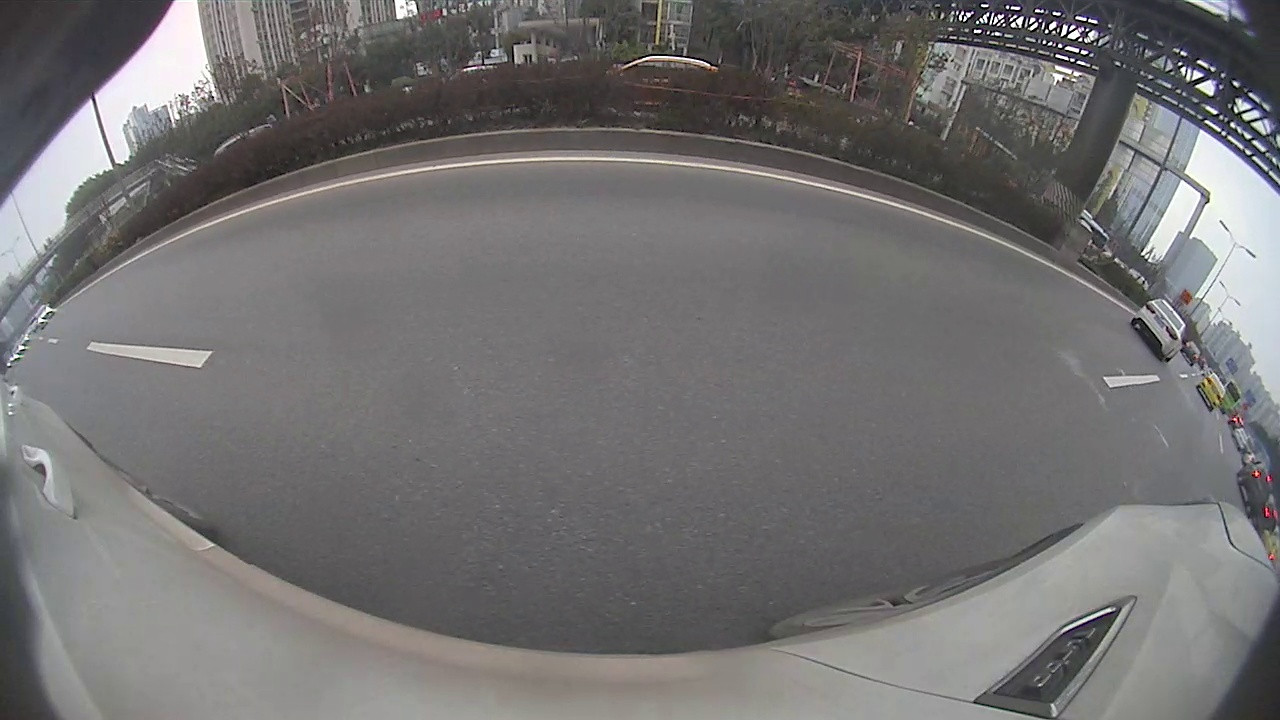car: (1130, 295, 1188, 363), (1197, 369, 1229, 413)
